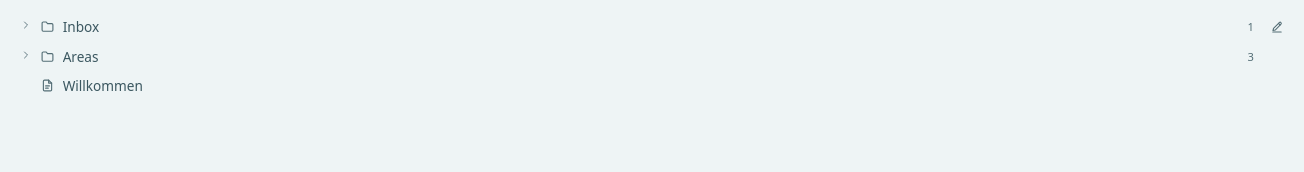
the tree says it is a tree › groups the children of an open folder, so the nesting is not only visual
Click the list item with class "node" showing "Areas 3" at [81, 56], box [12, 42, 1262, 71]
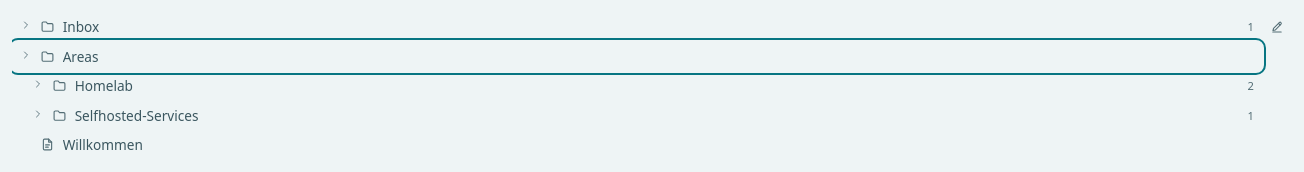
Expected: the list is shown, [12, 71, 1292, 130]
Expected: the text "Homelab" is shown, [75, 75, 133, 97]
